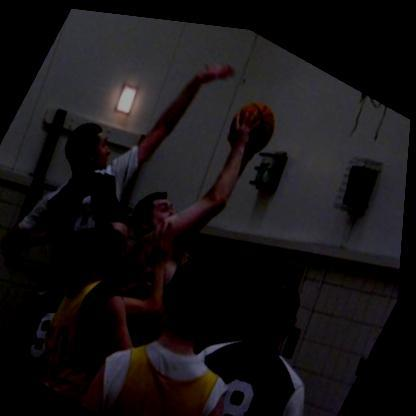basketball: (222, 86, 287, 159)
